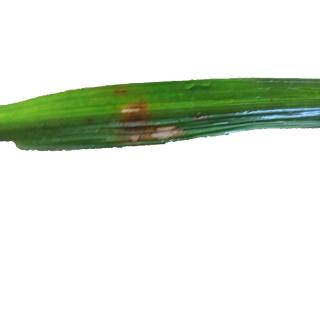Hawar-Daun: (120, 94, 152, 146), (149, 118, 183, 147), (109, 80, 132, 97)
